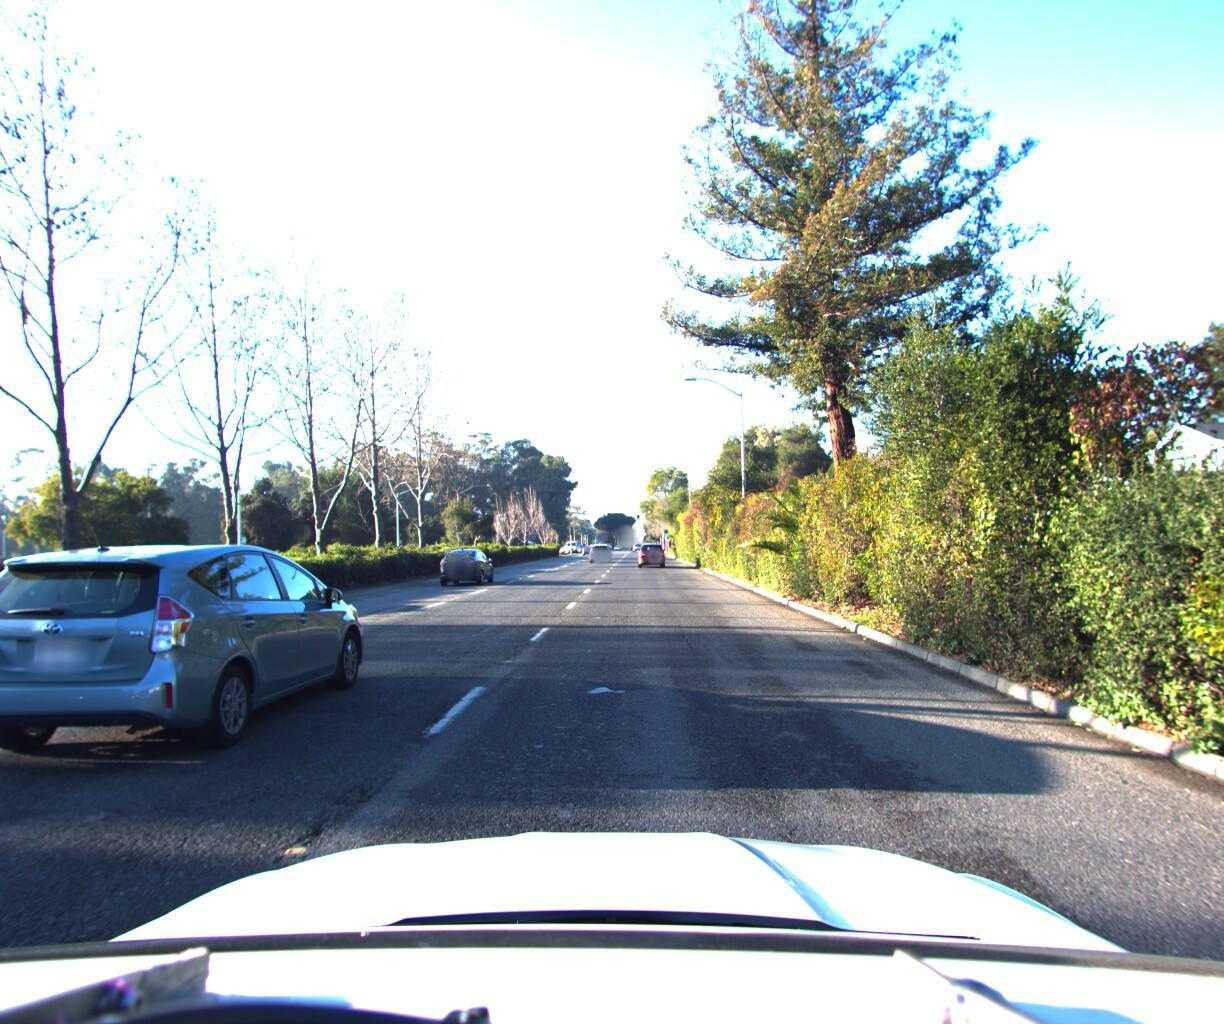car: (0, 530, 378, 777), (433, 543, 496, 583), (635, 538, 664, 563), (588, 536, 611, 558)
